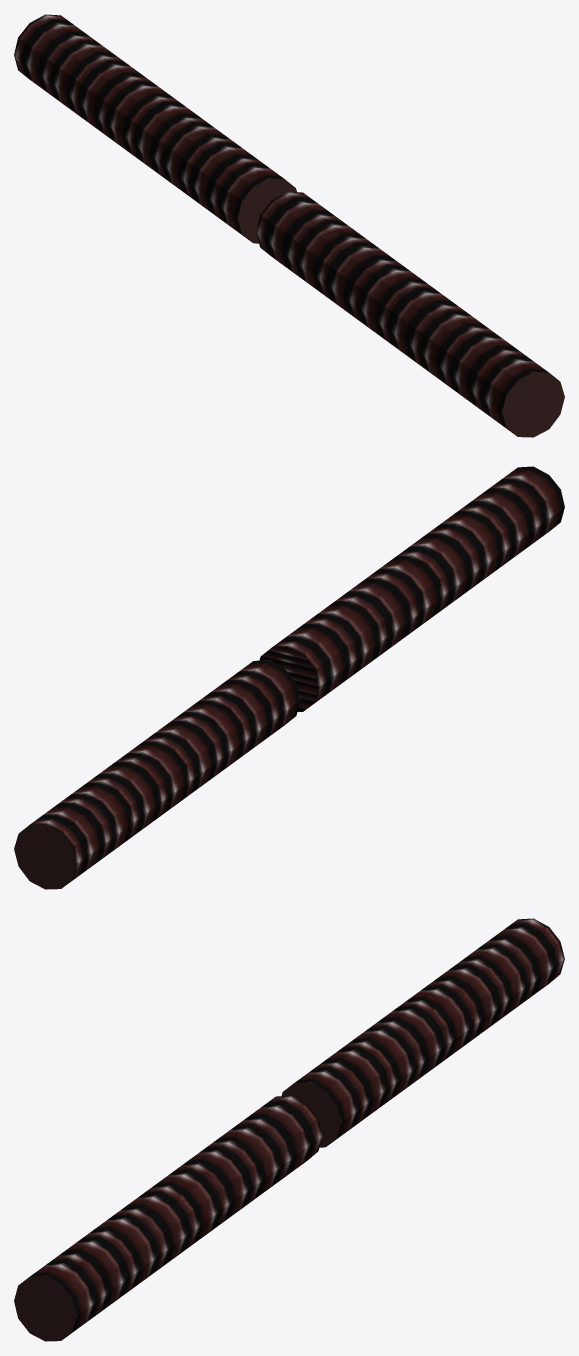
Rendered from jyz001-geode.glb.
The picture shows the model from 3 angles, top to bottom: view 1: azimuth 30°, elevation 25°; view 2: azimuth 150°, elevation 25°; view 3: azimuth 330°, elevation 25°; orthographic projection.
Visible parts, largest first — view 1: Node; view 2: Node; view 3: Node.
Part boxes in pixels (x1,y1,x2,y2): Node: [14, 14, 564, 437]; Node: [14, 466, 564, 889]; Node: [14, 918, 564, 1341].
Bounding box in the file's own units: 0.2075 × 0.2075 × 2.79.
Materials: 2 (2 with a texture image).
